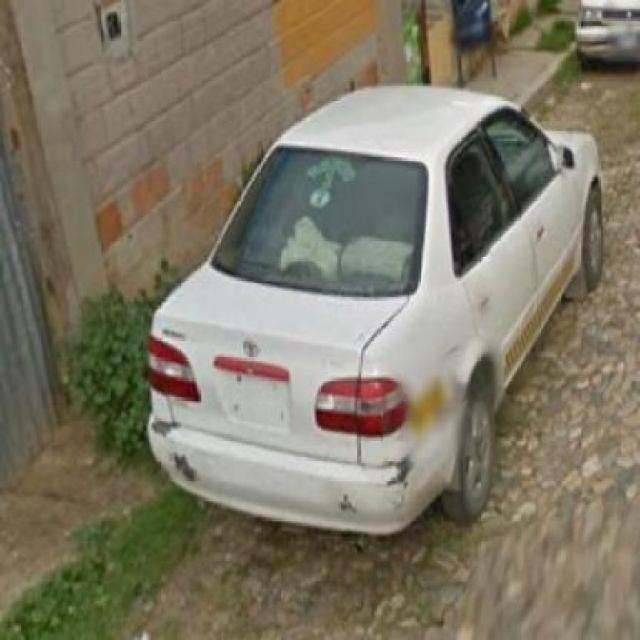car: (153, 85, 599, 542)
